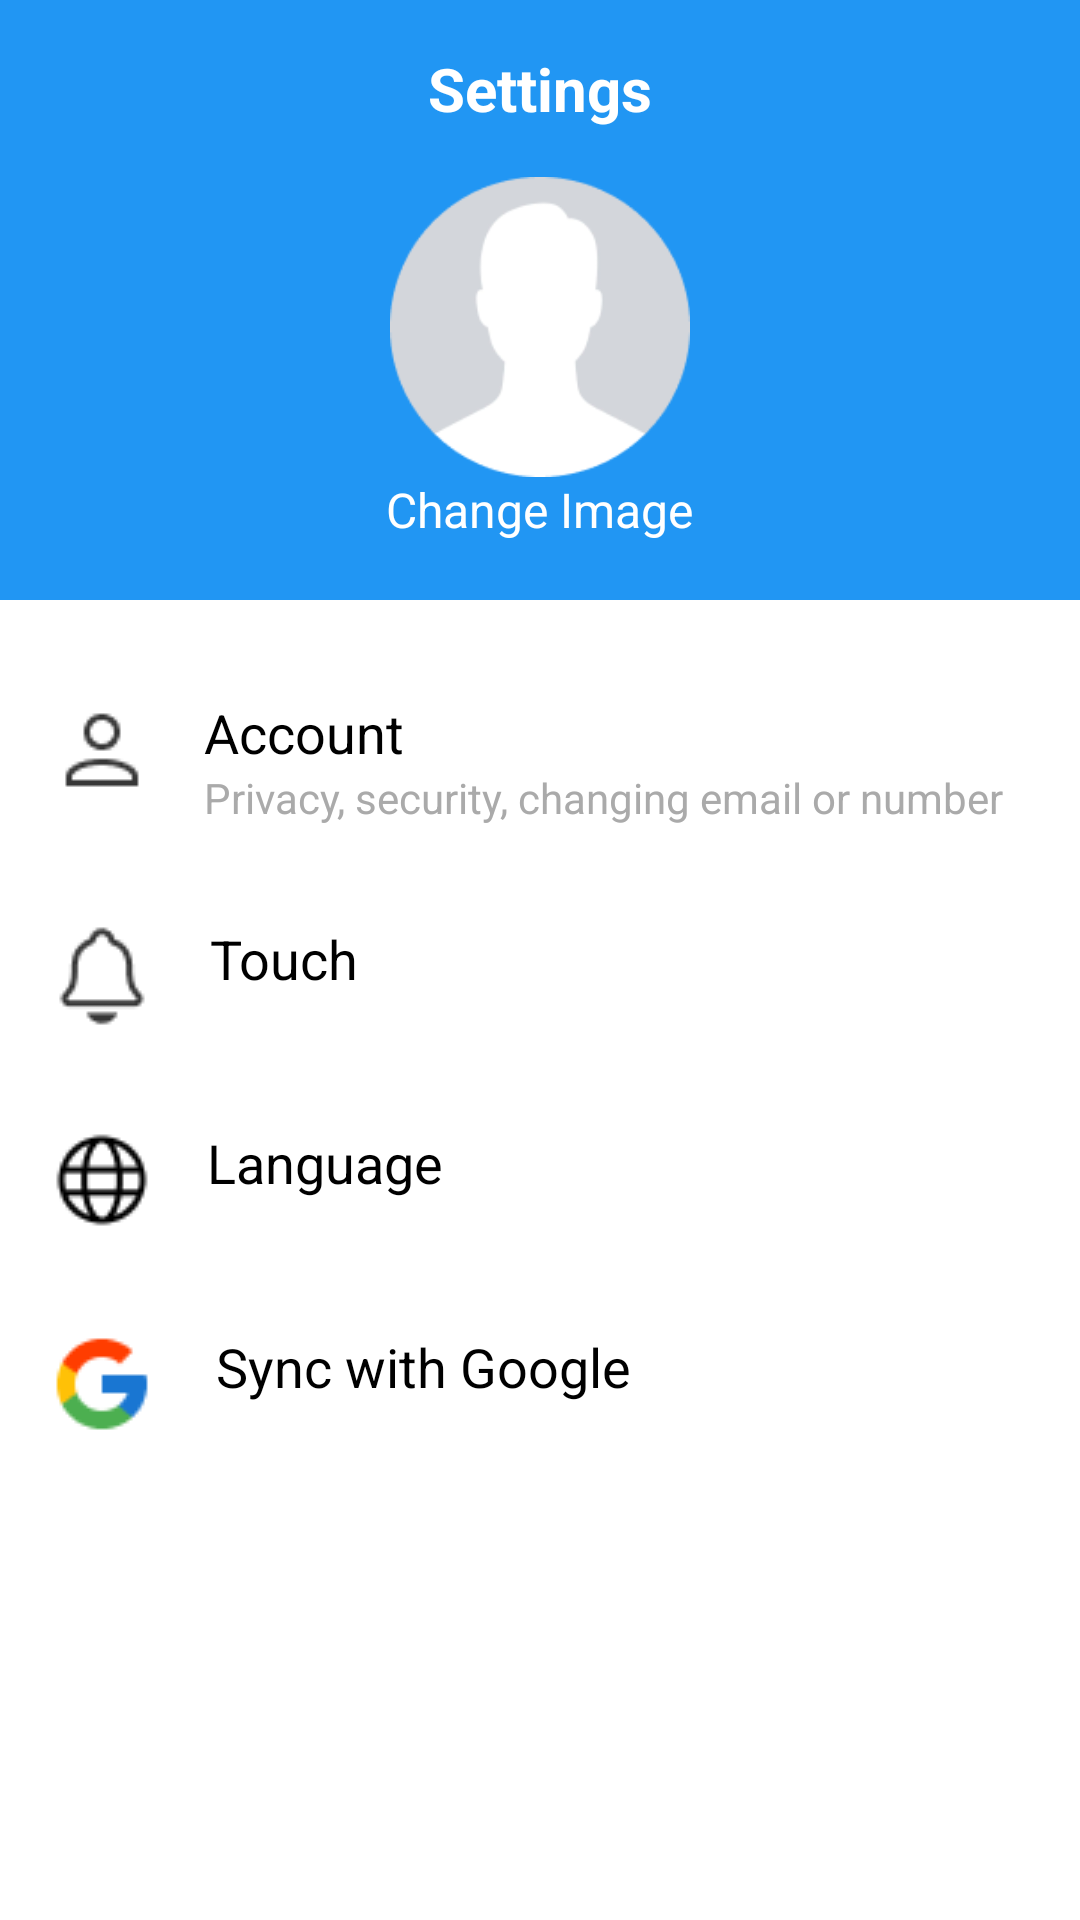

Screen size 1080 x 1920. Icon name, then its center in pixels as (x,y):
Profile Image: (540,327)
